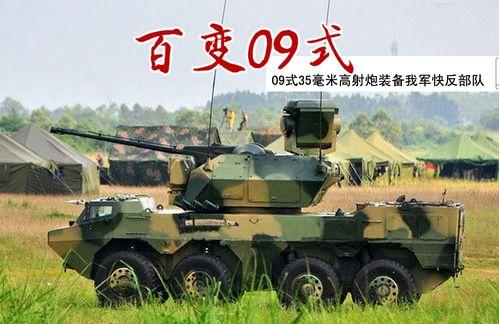MIL_SPG: (48, 99, 463, 306)
